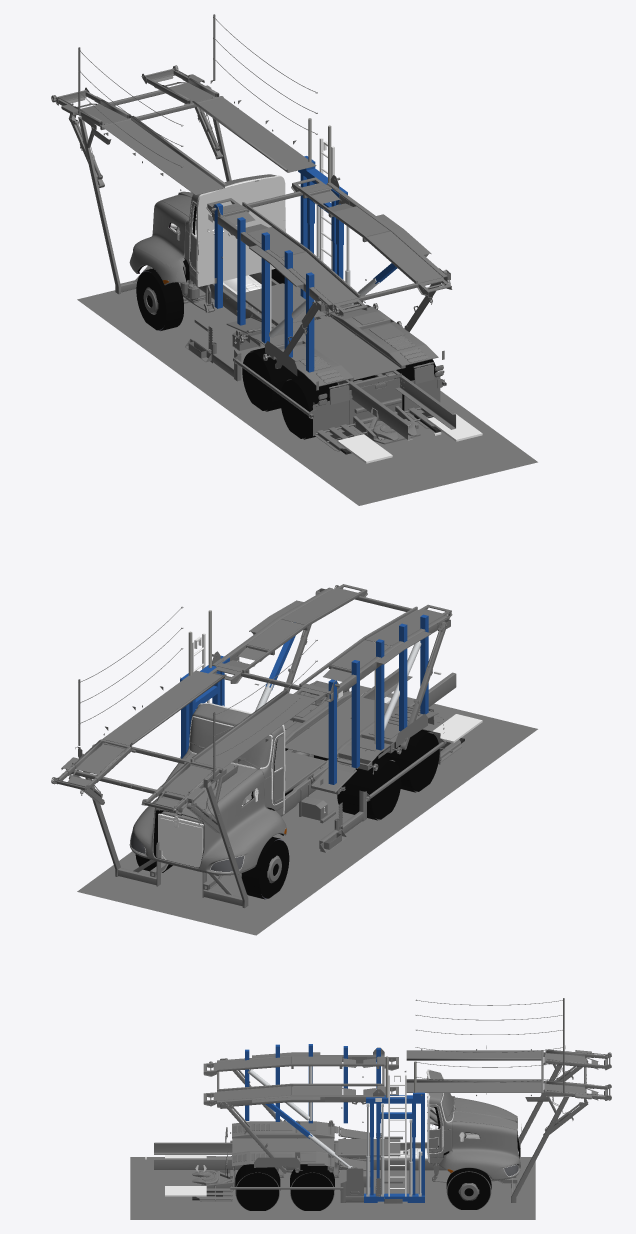
The model's file is t660_cottrell_default__tractor_v0.1.glb.
3 renders of one model, top to bottom at view 1: azimuth 30°, elevation 25°; view 2: azimuth 150°, elevation 25°; view 3: azimuth 270°, elevation 25°, orthographic. The views are drawn at different scales.
Parts seen in each view (by area): view 1: piece_38, piece_76.001, PROVISIONAL_DaycabRearClosure_Compact, piece_52.001, piece_78.001, piece_30, piece_5.003, piece_1_001_frame_rails_v0.4, piece_86.001, piece_85.001, piece_28.002, piece_0.009_wheel_r_2_0 (+16 smaller); view 2: piece_38, piece_76.001, piece_30, piece_78.001, piece_52.001, piece_5.003, piece_86.001, piece_24, piece_28.002, piece_1_001_frame_rails_v0.4, piece_11, piece_34 (+16 smaller); view 3: piece_38, piece_76.001, piece_30, piece_52.001, piece_1_001_frame_rails_v0.4, piece_78.001, piece_86.001, piece_5.003, piece_0.009_wheel_r_3_0, piece_0.009_wheel_r_1_0, piece_6.006_wheel_f_1_0, piece_24 (+20 smaller).
Part boxes in pixels (x1,y1,x2,y2): piece_38: (77, 282, 537, 505); piece_76.001: (73, 78, 442, 404); PROVISIONAL_DaycabRearClosure_Compact: (196, 175, 285, 287); piece_52.001: (206, 175, 452, 316); piece_78.001: (77, 14, 444, 410); piece_30: (129, 191, 196, 285); piece_5.003: (62, 74, 451, 382); piece_1_001_frame_rails_v0.4: (190, 272, 456, 440); piece_86.001: (245, 304, 438, 386); piece_85.001: (208, 349, 446, 444); piece_28.002: (55, 66, 219, 126); piece_0.009_wheel_r_2_0: (242, 352, 272, 410); piece_38: (77, 685, 537, 935); piece_76.001: (73, 589, 442, 795); piece_30: (129, 753, 286, 875); piece_78.001: (75, 679, 444, 908); piece_52.001: (208, 584, 452, 704); piece_5.003: (62, 584, 451, 807); piece_86.001: (285, 691, 438, 770); piece_24: (186, 704, 285, 815); piece_28.002: (53, 739, 219, 812); piece_1_001_frame_rails_v0.4: (156, 668, 456, 856); piece_11: (160, 818, 201, 867); piece_34: (189, 717, 271, 767); piece_38: (130, 1157, 535, 1219); piece_76.001: (217, 1049, 585, 1175); piece_30: (439, 1097, 520, 1180); piece_52.001: (203, 1047, 398, 1108); piece_1_001_frame_rails_v0.4: (154, 1142, 446, 1172); piece_78.001: (227, 998, 569, 1202); piece_86.001: (232, 1121, 334, 1170); piece_5.003: (203, 1050, 604, 1162); piece_0.009_wheel_r_3_0: (291, 1172, 333, 1210); piece_0.009_wheel_r_1_0: (236, 1172, 278, 1210); piece_6.006_wheel_f_1_0: (447, 1172, 490, 1209); piece_24: (427, 1070, 452, 1163).
Bounding box in the file's own units: 3.49 × 4.25 × 13.88.
